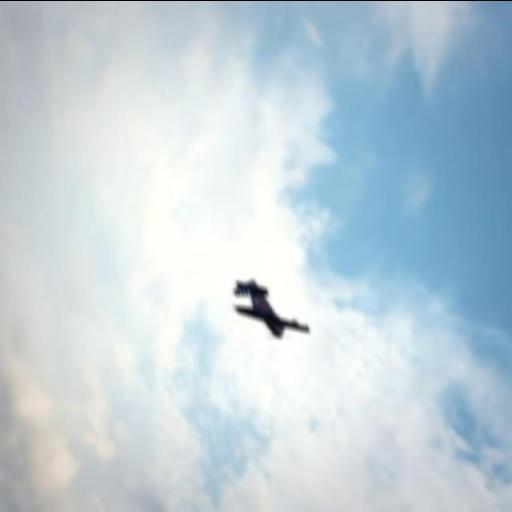uav: (231, 276, 311, 341)
